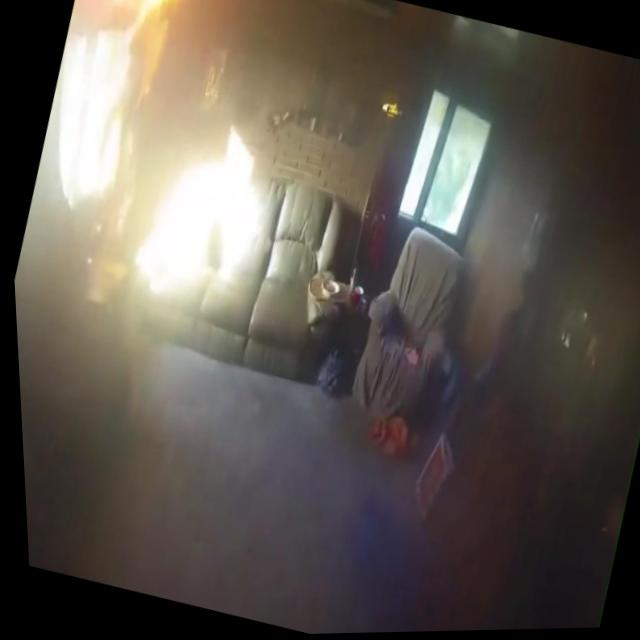fire: (82, 0, 207, 35)
